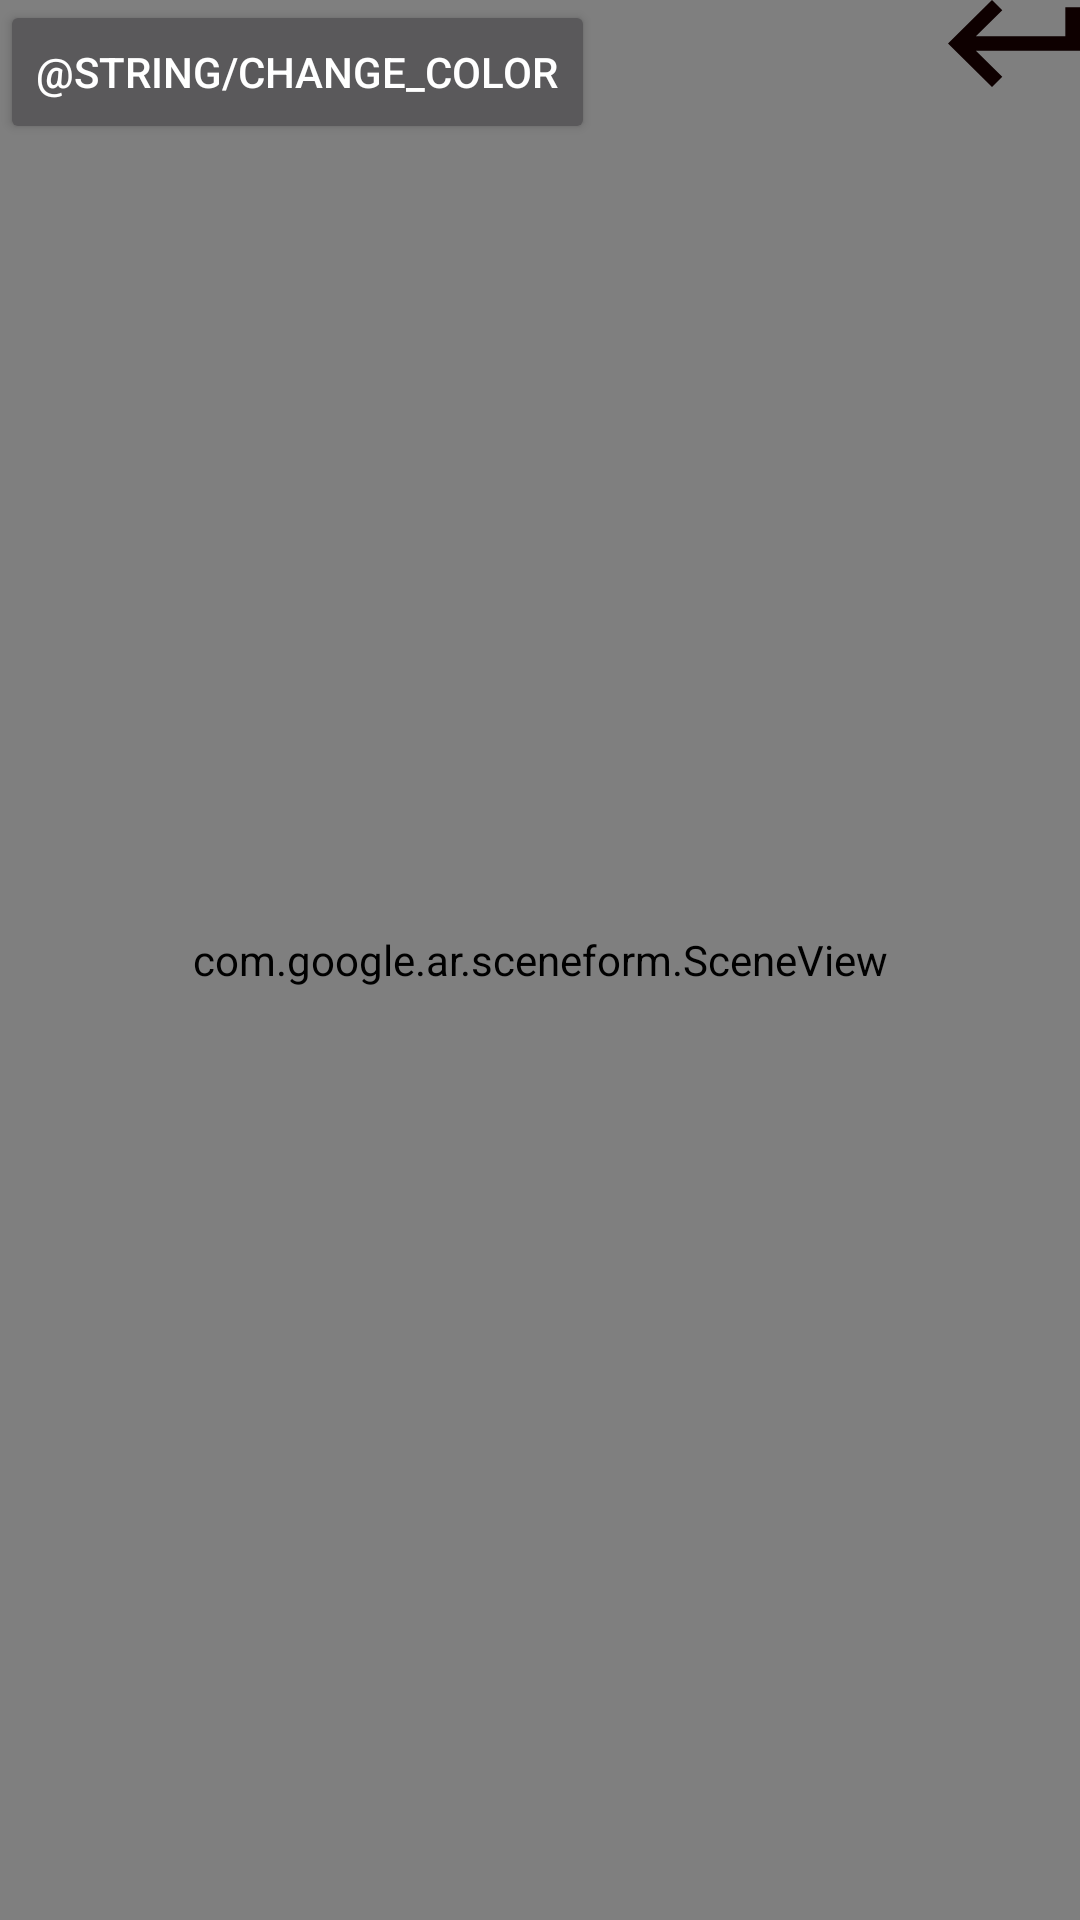

Icons on this 1080 × 1920 Android screen, each with the point to tap as (x,y):
return: (1014,43)
